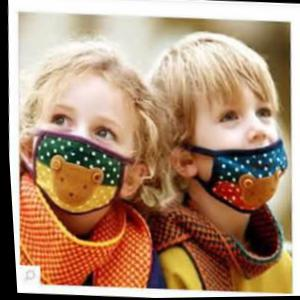OK: (23, 100, 140, 215)
WRONG: (195, 83, 291, 208)
